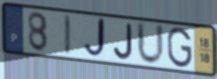8: (26, 10, 49, 54)
G: (166, 26, 194, 69)
I: (62, 13, 72, 58)
J: (82, 16, 108, 61), (112, 22, 134, 62)
U: (135, 20, 167, 68)
